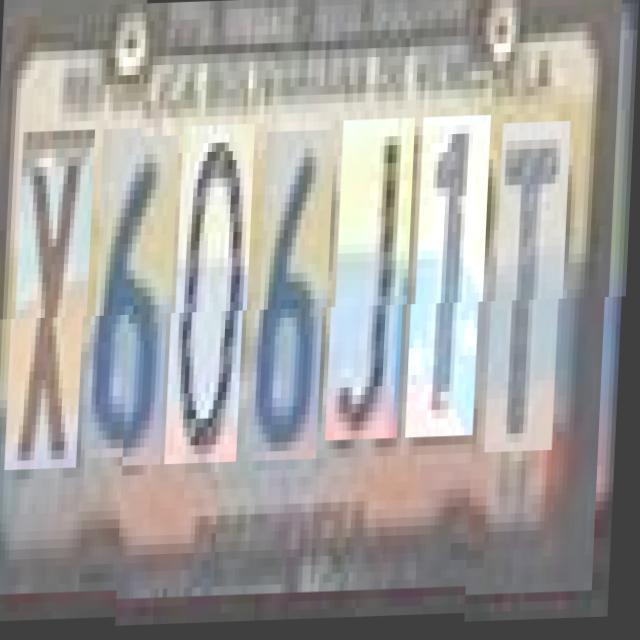1: (413, 119, 492, 441)
6: (94, 136, 180, 468), (258, 132, 336, 463)
J: (334, 121, 417, 444)
O: (174, 126, 256, 466)
T: (493, 116, 572, 448)
X: (13, 139, 96, 479)
